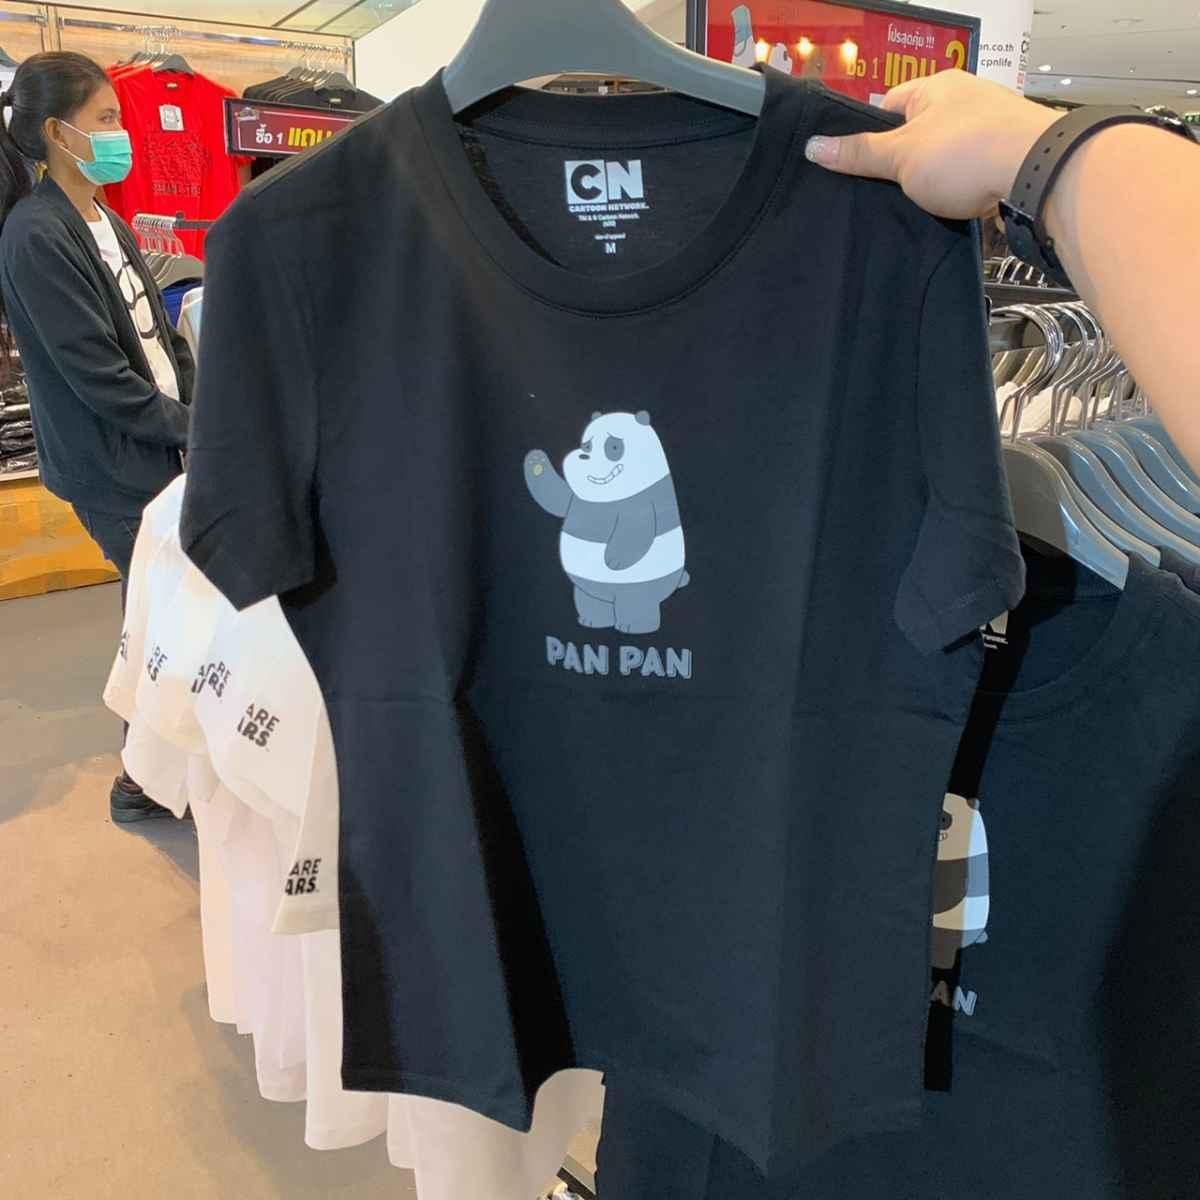Tshirt: (176, 90, 977, 1102)
